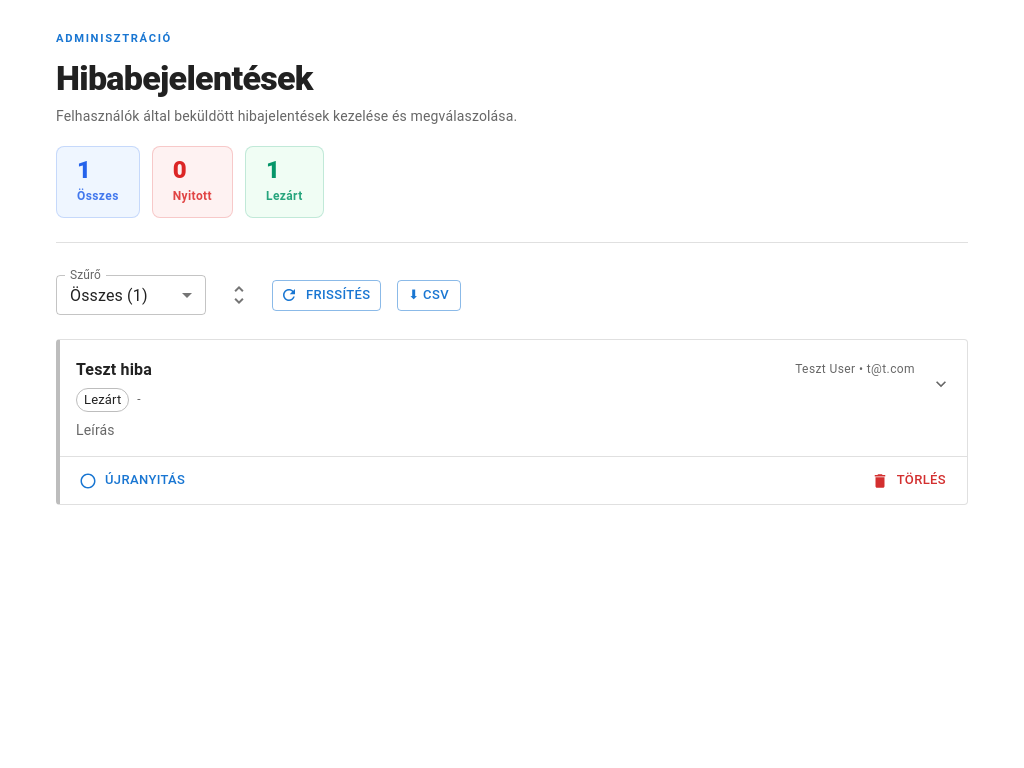
Test: BugReports › toggle status shows Hibajelentés újranyitva snackbar for closed report
Click the button "Újranyitás": [133, 481] box [76,465,190,496]
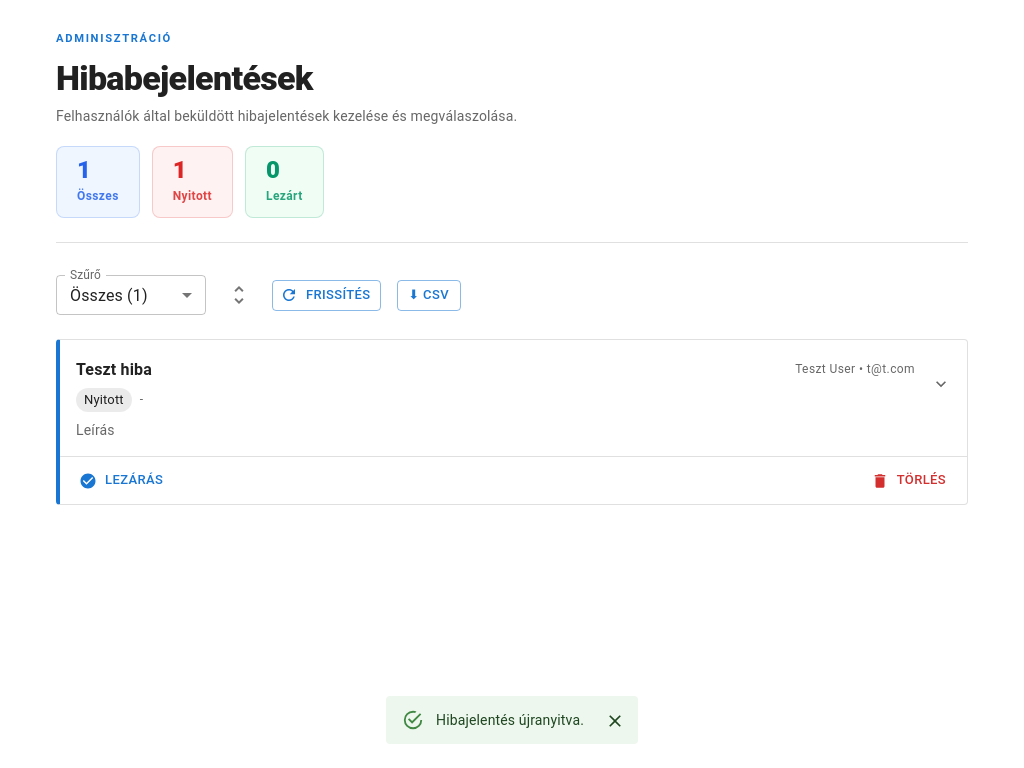
Now the text "Hibajelentés újranyitva." is shown, box [436,712,584,728]
